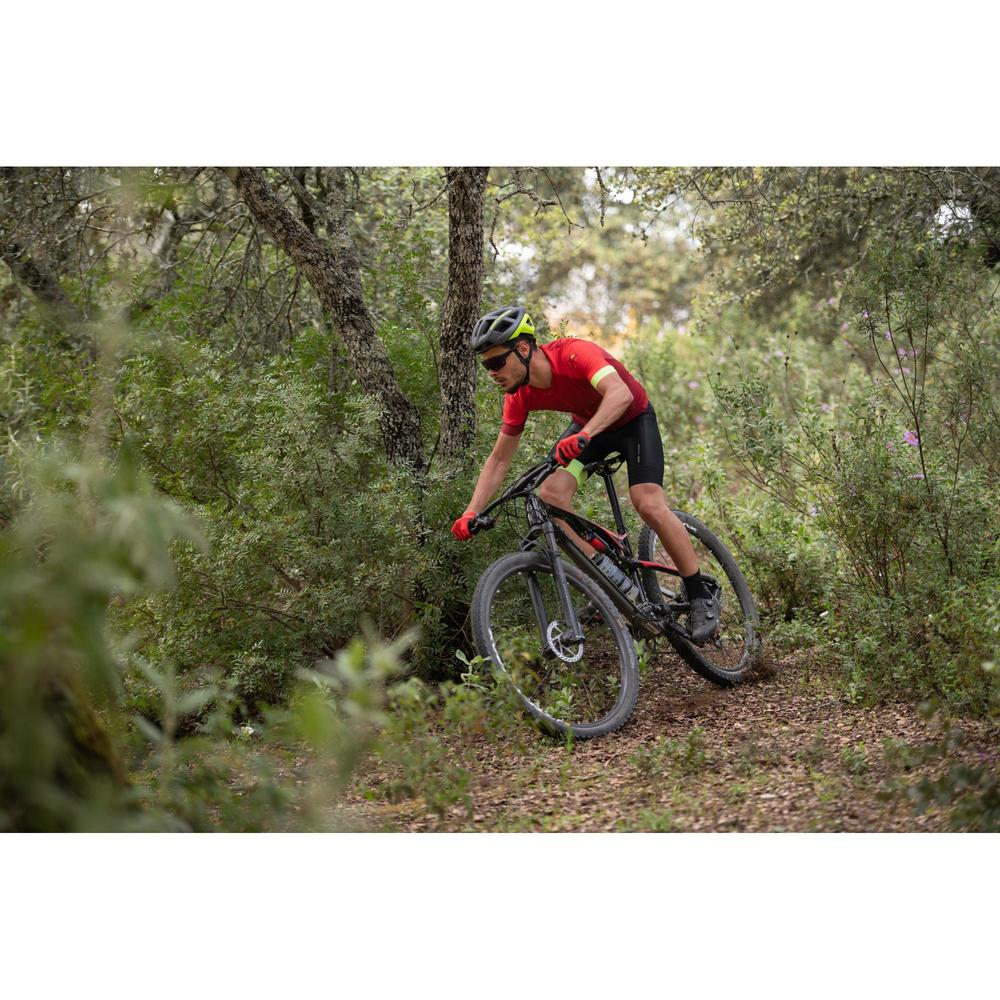MountainBike: (447, 433, 769, 739)
